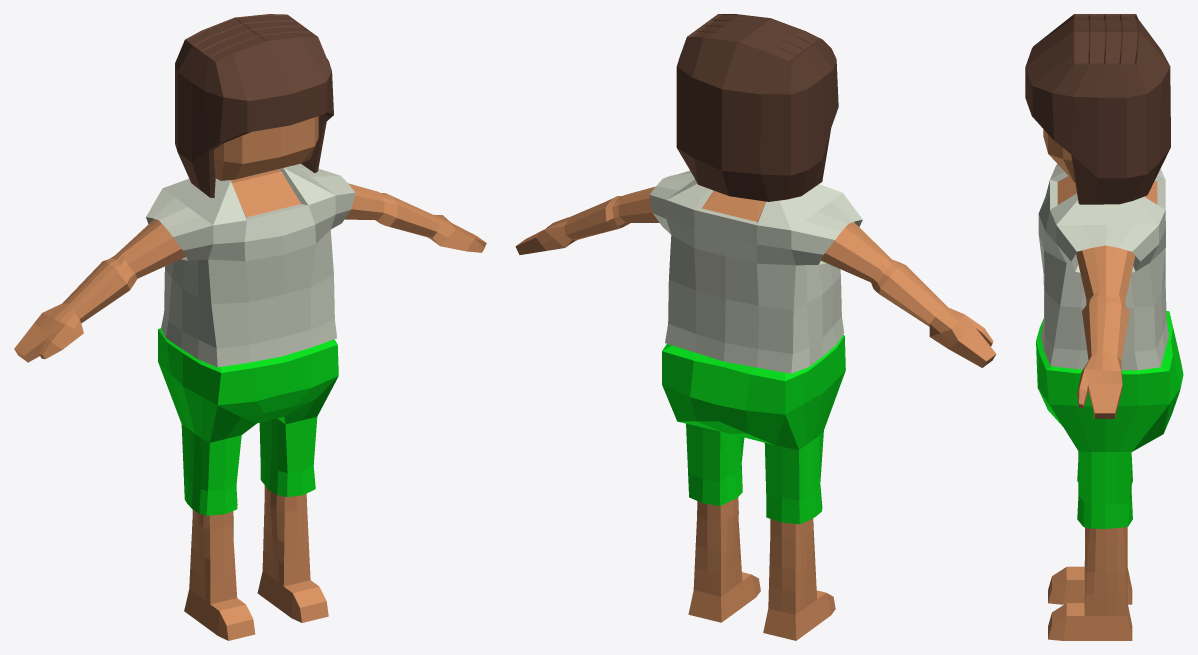
The model's file is Navegante.fbx.
The picture shows the model from 3 angles, left to right: view 1: azimuth 30°, elevation 25°; view 2: azimuth 150°, elevation 25°; view 3: azimuth 270°, elevation 25°; orthographic projection.
Visible parts, largest first — view 1: Corpo, Regata, Bermuda, Cabelo; view 2: Regata, Cabelo, Corpo, Bermuda; view 3: Cabelo, Regata, Corpo, Bermuda.
Part boxes in pixels (x1,y1,x2,y2): Corpo: [14, 116, 486, 640]; Regata: [146, 163, 355, 367]; Bermuda: [158, 328, 338, 515]; Cabelo: [175, 14, 333, 197]; Regata: [649, 170, 862, 373]; Cabelo: [676, 14, 838, 201]; Corpo: [515, 186, 996, 640]; Bermuda: [662, 335, 845, 524]; Cabelo: [1025, 14, 1170, 204]; Regata: [1038, 164, 1168, 370]; Corpo: [1043, 129, 1157, 640]; Bermuda: [1036, 311, 1183, 528].
Bounding box in the file's own units: 412 × 491 × 120.
